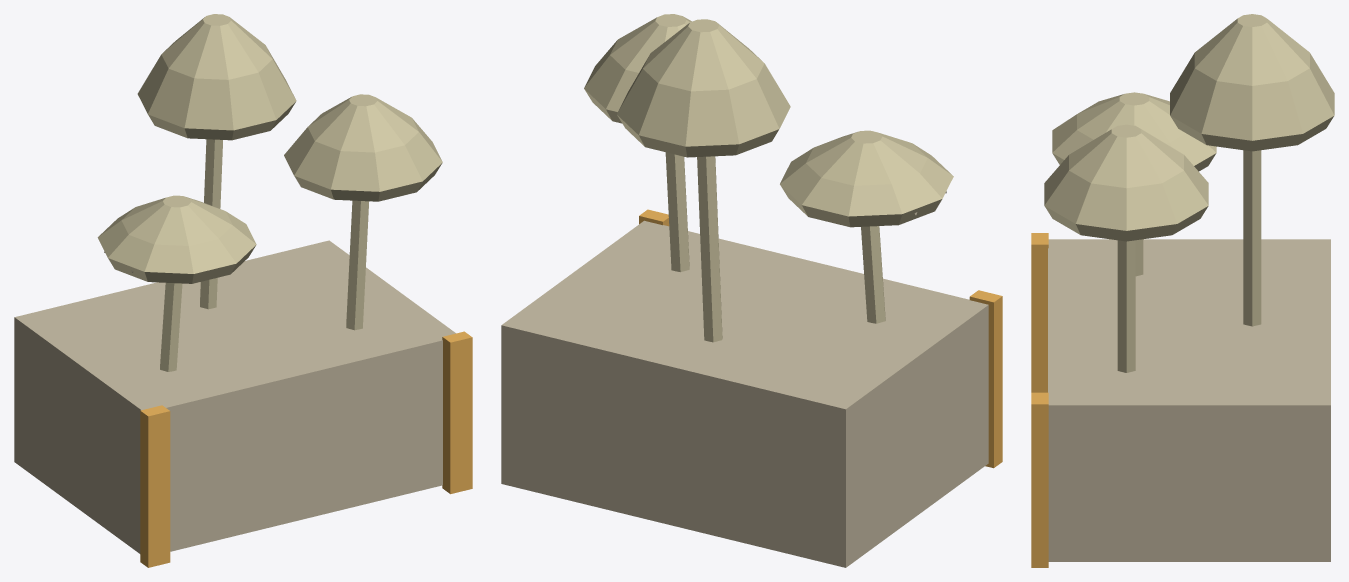
Rendered from space_scene_spore_bloom.glb.
The picture shows the model from 3 angles, left to right: view 1: azimuth 30°, elevation 25°; view 2: azimuth 150°, elevation 25°; view 3: azimuth 270°, elevation 25°; orthographic projection. The views are drawn at different scales.
Visible parts, largest first — view 1: FixedDetails, BrassTrim; view 2: FixedDetails, BrassTrim; view 3: FixedDetails, BrassTrim.
Boxes of the visible parts, x1=… form: FixedDetails: x1=14, y1=14, x2=455, y2=553; BrassTrim: x1=140, y1=331, x2=472, y2=567; FixedDetails: x1=501, y1=14, x2=988, y2=567; BrassTrim: x1=639, y1=209, x2=1002, y2=468; FixedDetails: x1=1044, y1=14, x2=1334, y2=561; BrassTrim: x1=1031, y1=233, x2=1048, y2=567.
Bounding box in the file's own units: 0.5215 × 0.655 × 0.3856.
